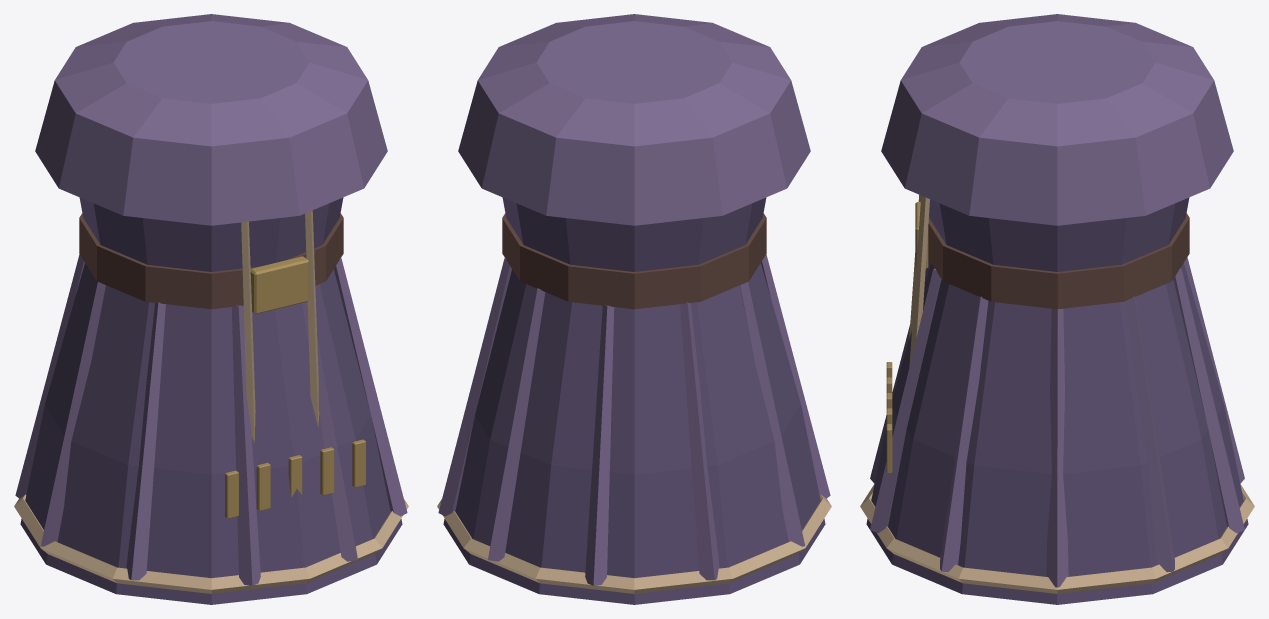
File: gear_robe.glb
3 views of the same model, side by side, from view 1: azimuth 30°, elevation 25°; view 2: azimuth 150°, elevation 25°; view 3: azimuth 270°, elevation 25° (orthographic).
Parts seen in each view (by area): view 1: Tailored robe, Shoulder mantle, Leather belt, Woven hem, Stitched skirt pleat.007, Stitched skirt pleat.006, Stitched skirt pleat.009, Stitched skirt pleat.005, Belt clasp, Stitched skirt pleat.008, Stitched skirt pleat.004, Robe front piping (+6 smaller); view 2: Tailored robe, Shoulder mantle, Leather belt, Woven hem, Stitched skirt pleat.003, Stitched skirt pleat.004, Stitched skirt pleat.002, Stitched skirt pleat.001, Stitched skirt pleat.005, Stitched skirt pleat.006; view 3: Tailored robe, Shoulder mantle, Leather belt, Woven hem, Stitched skirt pleat, Stitched skirt pleat.001, Stitched skirt pleat.009, Stitched skirt pleat.002, Stitched skirt pleat.008, Robe front piping.001, Stitched skirt pleat.003, Stitched skirt pleat.007.
Boxes of the visible parts, x1,y1,x2,y2 form: Tailored robe: (20,197,402,604); Shoulder mantle: (35,14,387,225); Leather belt: (79,213,343,309); Woven hem: (14,494,408,593); Stitched skirt pleat.007: (231,305,260,585); Stitched skirt pleat.006: (126,302,165,580); Stitched skirt pleat.009: (334,258,407,516); Stitched skirt pleat.005: (41,282,105,546); Belt clasp: (250,256,309,314); Stitched skirt pleat.008: (302,302,357,561); Stitched skirt pleat.004: (15,254,84,498); Robe front piping: (241,221,255,442); Tailored robe: (443,197,825,604); Shoulder mantle: (458,14,810,225); Leather belt: (502,213,766,309); Woven hem: (437,494,831,593); Stitched skirt pleat.003: (585,305,614,585); Stitched skirt pleat.004: (680,302,719,580); Stitched skirt pleat.002: (488,288,545,561); Stitched skirt pleat.001: (438,258,511,516); Stitched skirt pleat.005: (740,282,804,546); Stitched skirt pleat.006: (761,254,830,498); Tailored robe: (866,197,1248,604); Shoulder mantle: (881,14,1233,225); Leather belt: (928,213,1189,309); Woven hem: (860,484,1254,593); Stitched skirt pleat: (1046,308,1068,587); Stitched skirt pleat.001: (1126,296,1174,572); Stitched skirt pleat.009: (940,296,988,572); Stitched skirt pleat.002: (1173,268,1244,532); Stitched skirt pleat.008: (870,268,941,532); Robe front piping.001: (909,195,929,366); Stitched skirt pleat.003: (1184,257,1244,483); Stitched skirt pleat.007: (870,259,930,483).
Bounding box in the file's own units: 0.806 × 1.04 × 0.806.
